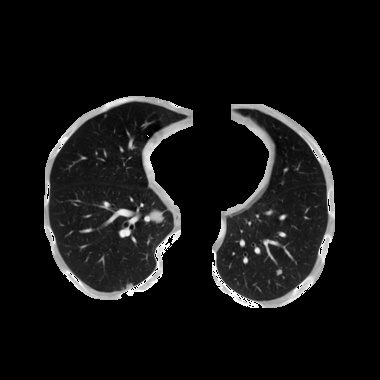PN: (276, 269, 282, 275)
